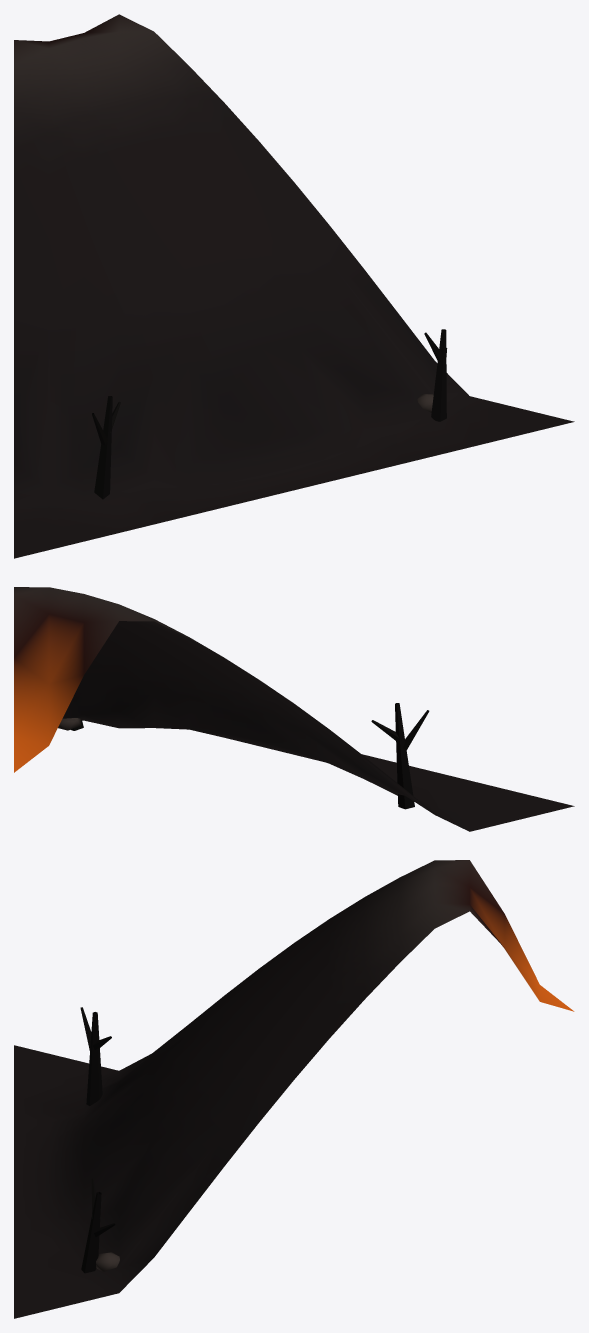
Rendered from MODULE_LAVA_L2_CORNER.fbx.
3 renders of one model, top to bottom at view 1: azimuth 30°, elevation 25°; view 2: azimuth 150°, elevation 25°; view 3: azimuth 270°, elevation 25°, orthographic.
Parts seen in each view (by area): view 1: MODULE_LAVA_L2_CORNER__export, MODULE_LAVA_L2_CORNER_DECOR__export; view 2: MODULE_LAVA_L2_CORNER__export, MODULE_LAVA_L2_CORNER_DECOR__export; view 3: MODULE_LAVA_L2_CORNER__export, MODULE_LAVA_L2_CORNER_DECOR__export.
Boxes of the visible parts, x1,y1,x2,y2 form: MODULE_LAVA_L2_CORNER__export: (14,14,574,558); MODULE_LAVA_L2_CORNER_DECOR__export: (92,329,447,499); MODULE_LAVA_L2_CORNER__export: (14,587,574,831); MODULE_LAVA_L2_CORNER_DECOR__export: (58,703,429,809); MODULE_LAVA_L2_CORNER__export: (14,860,574,1318); MODULE_LAVA_L2_CORNER_DECOR__export: (80,1007,119,1273).
Size of the model in its own units: 100 by 51.95 by 86.6.
